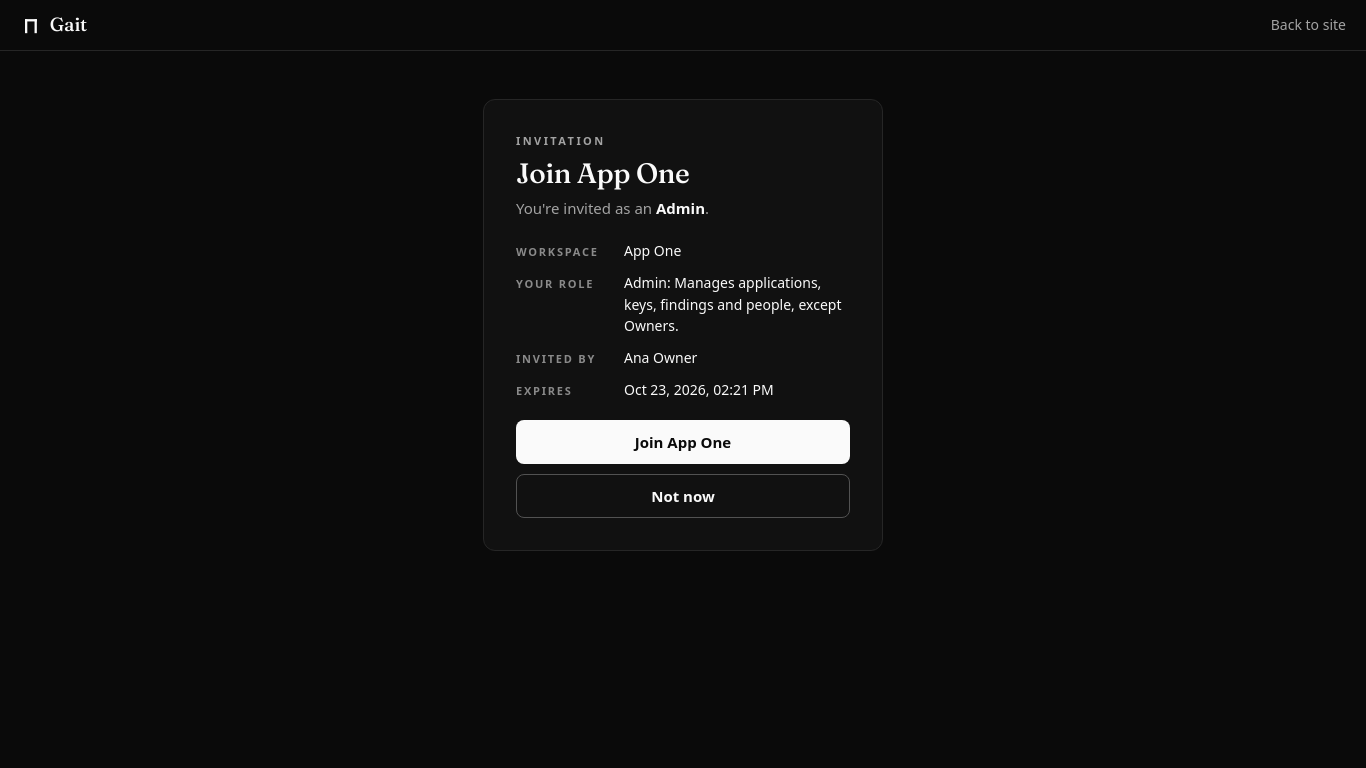
signed in › Gait refusing the join with EMAIL_NOT_VERIFIED
Click the button "Join App One".
click(683, 442)  # box [516,420,850,464]
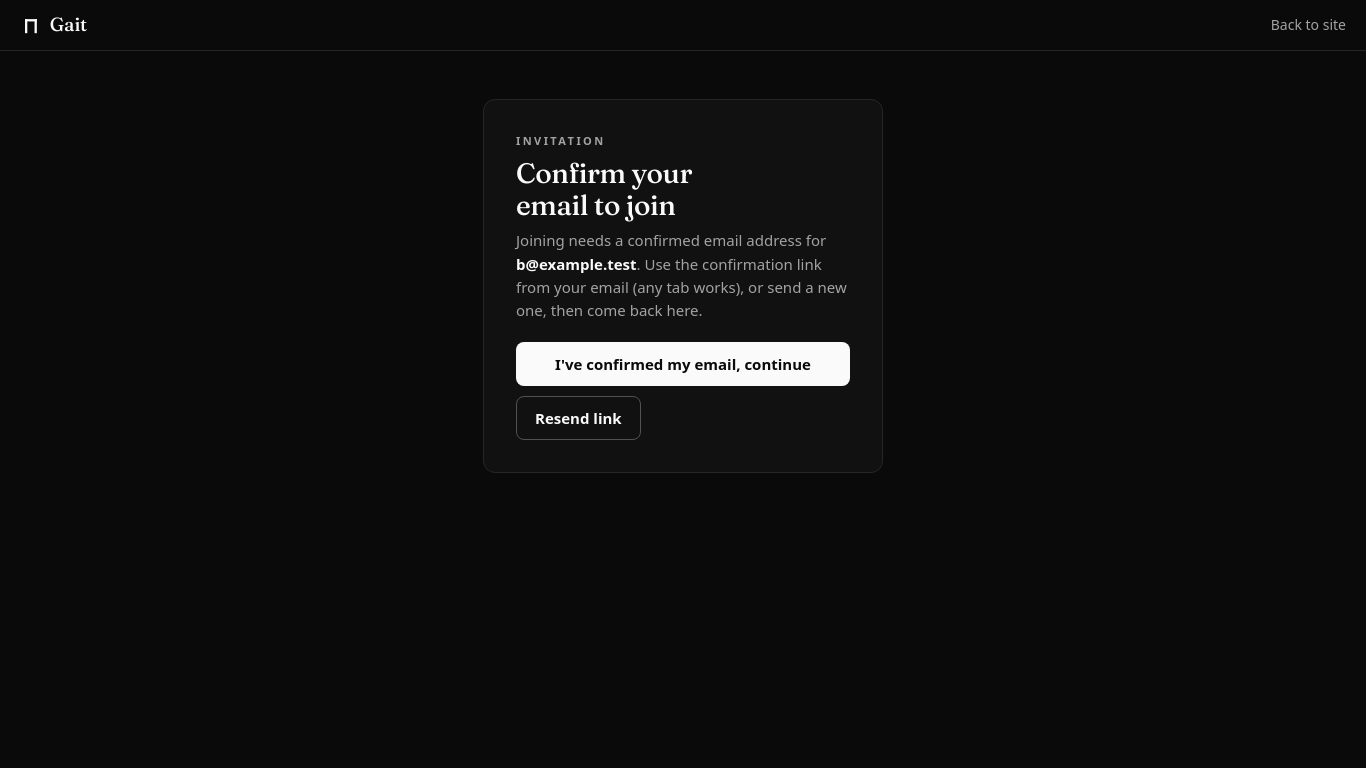
Expected: the heading "Confirm your email to join" is shown, [516,156,692,222]
